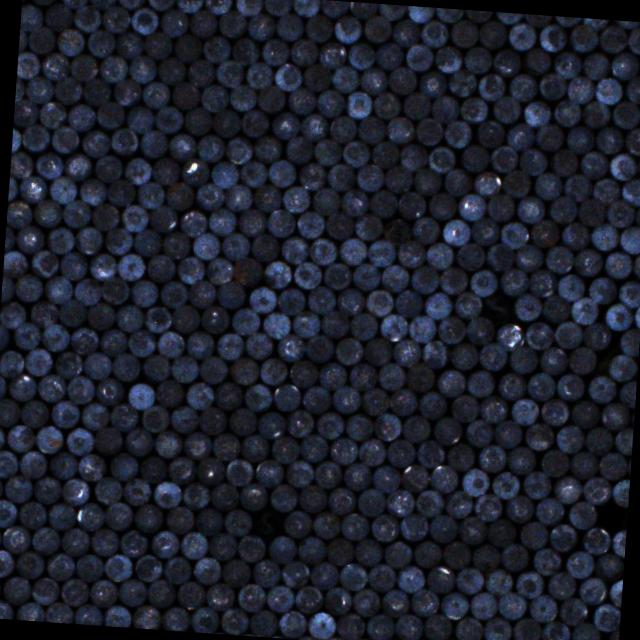tool: (232, 257, 262, 287), (476, 18, 506, 48), (68, 52, 98, 82), (408, 588, 438, 618), (170, 303, 200, 333), (526, 267, 556, 297), (60, 526, 90, 556), (134, 502, 164, 532), (514, 244, 544, 274), (320, 308, 350, 338), (570, 397, 600, 427), (370, 464, 400, 494), (340, 462, 370, 492), (506, 22, 536, 52), (396, 238, 426, 268), (404, 362, 434, 392), (446, 68, 476, 98), (298, 434, 328, 463), (562, 172, 592, 201), (145, 578, 174, 608), (288, 36, 317, 66), (61, 197, 90, 227), (240, 107, 270, 136), (322, 262, 352, 291), (432, 44, 461, 74), (323, 586, 352, 616), (221, 231, 250, 261), (512, 292, 542, 321), (208, 160, 238, 189), (488, 144, 518, 173), (237, 206, 266, 236), (360, 386, 389, 416), (295, 534, 324, 564), (428, 513, 457, 543), (500, 220, 529, 250), (122, 428, 152, 457), (520, 521, 550, 550), (477, 394, 507, 423), (596, 451, 626, 480), (169, 352, 198, 382), (182, 105, 212, 134), (302, 62, 331, 92), (441, 538, 470, 568), (530, 594, 560, 623), (448, 16, 477, 46), (132, 552, 161, 582), (386, 438, 415, 468), (486, 518, 515, 548), (311, 184, 340, 214), (458, 95, 488, 124), (228, 356, 258, 385), (248, 609, 278, 638), (383, 538, 412, 568), (75, 500, 104, 530), (43, 2, 72, 32), (508, 344, 538, 373), (485, 243, 514, 273), (336, 286, 365, 316), (101, 4, 130, 34), (536, 346, 566, 375), (242, 330, 272, 359), (425, 564, 454, 594), (110, 400, 139, 430), (600, 402, 630, 431), (254, 458, 284, 487), (470, 540, 499, 570), (80, 77, 110, 106), (85, 28, 114, 58), (609, 352, 638, 382), (333, 337, 362, 366), (528, 217, 557, 246), (198, 353, 227, 382), (142, 31, 171, 60), (100, 274, 129, 303), (185, 329, 214, 358), (396, 189, 425, 218), (94, 376, 123, 405), (132, 227, 161, 256), (116, 577, 145, 606), (323, 536, 352, 565), (499, 266, 528, 295), (464, 316, 493, 345), (331, 384, 360, 413), (457, 516, 486, 545), (473, 493, 502, 522), (347, 41, 376, 70), (182, 432, 211, 461), (51, 125, 80, 154), (486, 192, 515, 221), (363, 13, 392, 42), (423, 290, 452, 319), (253, 183, 282, 212), (283, 458, 312, 487), (29, 249, 58, 278), (175, 580, 204, 609), (264, 584, 293, 613), (126, 54, 155, 83), (270, 436, 299, 465), (237, 583, 266, 612), (294, 209, 323, 238), (76, 451, 105, 480), (385, 115, 414, 144), (15, 500, 44, 529), (113, 30, 142, 59), (88, 527, 117, 556), (501, 170, 530, 199), (479, 342, 508, 371), (566, 549, 595, 578), (13, 550, 42, 579), (308, 237, 337, 266), (569, 22, 598, 51), (362, 338, 391, 367), (80, 400, 109, 429), (5, 423, 34, 452), (44, 552, 73, 581), (441, 168, 470, 197), (109, 452, 138, 481), (117, 527, 146, 556), (275, 287, 304, 316), (123, 476, 152, 505), (224, 135, 253, 164), (302, 383, 331, 412), (96, 99, 125, 128), (443, 489, 472, 518), (582, 322, 611, 351), (402, 92, 431, 121), (184, 382, 213, 411), (453, 290, 482, 319), (220, 606, 248, 636), (104, 500, 132, 530), (478, 442, 506, 472), (268, 158, 296, 188), (20, 398, 48, 428), (197, 132, 225, 162), (139, 128, 167, 158), (356, 114, 384, 144), (366, 562, 394, 592), (57, 26, 85, 56), (376, 40, 404, 70), (370, 140, 400, 168), (293, 584, 321, 614), (493, 420, 521, 450), (42, 322, 70, 352), (326, 162, 354, 192), (225, 456, 253, 486), (567, 344, 595, 374), (276, 10, 304, 40), (428, 190, 456, 220), (263, 260, 291, 290), (218, 10, 248, 38), (220, 558, 248, 588), (296, 482, 324, 512), (500, 542, 530, 570), (438, 266, 468, 294), (33, 474, 61, 504), (352, 588, 380, 618), (454, 566, 484, 594), (210, 480, 238, 510), (584, 425, 612, 455), (222, 508, 252, 536), (340, 560, 368, 590), (566, 74, 594, 104), (437, 314, 465, 344), (300, 110, 328, 140), (194, 180, 222, 210), (492, 48, 520, 78), (86, 300, 114, 330), (584, 526, 612, 556), (290, 358, 318, 388), (434, 416, 462, 446), (553, 320, 581, 350), (352, 212, 382, 240), (588, 374, 616, 404), (606, 196, 634, 226), (466, 368, 494, 398), (611, 100, 639, 130), (338, 512, 366, 542), (166, 454, 194, 484), (356, 488, 386, 516), (317, 360, 345, 390), (298, 160, 326, 190), (526, 422, 554, 452), (272, 110, 300, 140), (482, 567, 512, 595), (354, 536, 382, 566), (113, 302, 141, 332), (419, 68, 447, 98), (112, 352, 140, 382), (92, 474, 120, 504), (599, 24, 627, 54), (606, 300, 634, 330), (524, 320, 552, 350), (329, 436, 357, 465), (34, 425, 62, 454), (448, 342, 477, 370), (407, 313, 435, 342), (392, 612, 421, 640), (351, 263, 379, 292), (153, 104, 182, 132), (40, 51, 68, 80), (308, 610, 337, 638), (394, 289, 422, 318), (346, 361, 374, 390), (278, 610, 306, 639), (22, 122, 50, 151), (67, 374, 95, 403), (201, 82, 229, 111), (448, 393, 476, 422), (347, 312, 375, 341), (284, 408, 312, 437), (252, 233, 280, 262), (26, 75, 54, 104), (444, 118, 472, 147), (442, 216, 470, 245), (202, 33, 230, 62), (148, 203, 176, 232), (216, 332, 244, 361), (24, 348, 52, 377), (74, 225, 102, 254), (354, 163, 382, 192), (378, 313, 406, 342), (38, 373, 66, 402), (18, 175, 46, 204), (582, 475, 610, 504), (400, 463, 428, 492), (344, 90, 372, 119), (188, 279, 216, 308), (293, 261, 321, 290), (468, 590, 496, 619), (394, 564, 422, 593), (2, 525, 30, 554), (282, 510, 310, 539), (554, 423, 582, 452), (379, 263, 407, 292), (112, 77, 140, 106), (413, 490, 442, 518), (422, 612, 451, 640), (570, 449, 598, 478), (212, 431, 240, 460), (128, 277, 156, 306), (147, 254, 175, 283), (166, 180, 194, 209), (316, 89, 344, 118), (200, 304, 228, 333), (211, 107, 239, 136), (17, 448, 45, 477), (274, 61, 302, 90), (524, 470, 552, 499), (104, 225, 132, 254), (71, 326, 99, 355), (330, 63, 358, 92), (125, 104, 154, 132), (252, 134, 280, 163), (457, 192, 485, 221), (306, 13, 334, 42), (610, 51, 638, 80), (33, 197, 61, 226), (168, 403, 196, 432), (461, 466, 489, 495), (244, 382, 272, 411), (332, 13, 360, 42), (155, 56, 184, 84), (430, 463, 458, 492), (180, 529, 208, 558), (369, 513, 397, 542), (436, 368, 464, 397), (420, 17, 448, 46), (590, 222, 618, 251), (280, 558, 309, 586), (546, 245, 574, 274), (370, 187, 398, 216), (31, 526, 59, 555), (217, 280, 246, 308), (456, 243, 484, 272), (409, 266, 438, 294), (228, 407, 256, 436), (140, 79, 168, 108), (84, 349, 112, 378), (404, 41, 432, 70), (383, 166, 412, 194), (74, 553, 102, 582), (196, 406, 224, 435), (508, 445, 536, 474), (310, 559, 338, 588), (212, 380, 240, 409), (272, 382, 300, 411), (358, 66, 386, 95), (564, 125, 592, 154), (357, 438, 385, 467), (578, 198, 606, 227), (126, 328, 154, 357), (340, 186, 368, 215), (465, 418, 493, 447), (542, 294, 571, 322), (58, 251, 86, 280), (547, 570, 576, 598), (144, 305, 172, 334), (192, 230, 220, 259), (306, 284, 335, 312), (238, 482, 266, 511), (47, 176, 76, 204), (268, 533, 296, 562), (60, 576, 88, 605), (152, 155, 180, 184), (192, 506, 220, 535), (180, 156, 208, 185), (260, 357, 288, 386), (366, 287, 394, 316), (256, 85, 284, 114), (194, 456, 222, 485), (579, 149, 607, 178), (156, 329, 184, 358), (54, 75, 82, 104), (399, 512, 427, 541), (596, 125, 624, 154), (48, 449, 76, 478), (60, 478, 88, 507), (516, 194, 544, 223), (469, 215, 497, 244), (426, 241, 454, 270), (155, 378, 183, 407), (3, 475, 31, 504), (106, 176, 134, 205), (343, 412, 372, 440), (33, 150, 62, 178), (540, 447, 568, 476), (66, 102, 95, 130), (562, 597, 590, 626), (336, 611, 364, 640), (604, 251, 632, 280), (231, 306, 260, 334), (446, 441, 474, 470), (461, 142, 489, 171), (326, 210, 354, 239), (6, 371, 34, 400), (505, 493, 533, 522), (54, 349, 82, 378), (140, 403, 168, 432), (258, 409, 286, 438), (168, 132, 196, 161), (596, 550, 624, 579), (507, 121, 535, 150), (417, 440, 445, 469), (388, 387, 416, 416), (507, 73, 535, 102), (92, 426, 120, 455), (534, 172, 562, 201), (416, 115, 444, 144), (492, 469, 520, 498), (74, 276, 102, 305), (11, 321, 39, 350), (496, 322, 524, 351), (562, 221, 590, 250), (316, 410, 344, 439), (268, 482, 296, 511), (498, 372, 526, 401), (164, 554, 192, 583), (276, 333, 304, 362), (538, 23, 566, 52), (250, 285, 278, 314), (569, 499, 597, 528), (230, 37, 258, 66), (392, 18, 420, 47), (580, 576, 608, 605), (326, 485, 354, 514), (525, 372, 553, 401), (280, 234, 308, 263), (420, 389, 448, 418), (66, 426, 95, 454), (304, 333, 332, 362), (554, 49, 582, 78), (81, 129, 109, 158), (523, 100, 552, 128), (515, 569, 543, 598), (28, 299, 57, 327), (381, 588, 408, 618), (372, 412, 399, 442), (51, 398, 78, 428), (190, 606, 220, 633), (285, 134, 312, 164), (391, 338, 418, 368), (58, 298, 85, 328), (237, 532, 265, 560), (338, 236, 366, 264), (594, 76, 622, 104), (267, 208, 295, 236), (224, 182, 252, 210), (312, 460, 340, 488), (118, 252, 146, 280), (230, 84, 258, 112), (130, 6, 158, 34), (462, 46, 490, 74), (88, 578, 116, 606), (588, 276, 616, 304), (537, 72, 565, 100), (38, 102, 66, 130), (205, 256, 233, 284), (104, 552, 132, 580), (88, 252, 116, 280), (389, 66, 417, 94), (368, 238, 396, 266), (208, 532, 236, 560), (510, 398, 538, 426), (400, 142, 428, 170), (476, 120, 504, 148), (136, 180, 164, 208), (314, 137, 342, 165), (570, 296, 598, 324), (413, 538, 441, 566), (372, 92, 400, 120), (498, 592, 526, 620), (260, 38, 288, 66), (401, 414, 429, 442), (342, 138, 370, 166), (240, 160, 268, 188), (492, 96, 520, 124), (608, 152, 636, 180), (93, 202, 121, 230), (192, 556, 220, 584), (536, 496, 564, 524), (251, 558, 279, 586), (414, 168, 442, 196), (550, 524, 578, 552), (98, 328, 126, 356), (431, 94, 459, 122), (109, 126, 137, 154), (14, 272, 42, 300), (42, 274, 70, 302), (365, 612, 393, 640), (122, 157, 150, 185), (159, 8, 187, 36), (520, 147, 548, 175), (286, 86, 314, 114), (534, 122, 562, 150), (160, 278, 188, 306), (172, 82, 200, 110), (474, 171, 502, 199), (95, 154, 123, 182), (28, 26, 56, 54), (573, 248, 601, 276), (242, 434, 270, 462), (427, 144, 455, 172), (290, 310, 318, 338), (78, 178, 106, 206), (150, 528, 178, 556), (206, 582, 234, 610), (550, 194, 578, 222), (580, 101, 608, 129), (16, 226, 44, 254), (46, 501, 74, 529), (182, 481, 210, 509), (550, 147, 578, 175), (592, 176, 620, 204), (468, 267, 496, 295), (534, 546, 562, 574), (64, 152, 92, 180), (262, 310, 290, 338), (126, 380, 154, 408), (162, 230, 190, 258), (581, 51, 609, 79), (385, 488, 413, 516), (540, 396, 568, 424), (178, 208, 206, 236), (558, 272, 586, 300), (318, 41, 346, 69), (166, 505, 193, 534), (207, 207, 234, 236), (412, 214, 439, 243), (215, 58, 242, 87), (312, 511, 339, 540), (186, 59, 213, 88), (175, 31, 202, 60), (245, 60, 272, 89), (422, 339, 449, 368), (441, 590, 468, 619), (2, 575, 29, 604), (280, 185, 308, 212), (188, 10, 215, 38), (249, 14, 276, 42), (176, 256, 203, 284), (31, 576, 58, 604), (554, 372, 582, 399), (100, 54, 127, 82), (374, 361, 402, 388), (329, 114, 356, 142), (46, 226, 74, 253), (142, 352, 170, 379), (73, 4, 100, 32), (153, 480, 180, 508), (140, 454, 167, 482), (523, 46, 550, 74), (132, 604, 161, 630), (483, 614, 512, 640), (154, 429, 180, 458), (12, 99, 38, 128), (556, 474, 582, 503), (478, 72, 504, 101), (594, 602, 620, 630), (120, 202, 146, 230), (554, 100, 580, 128), (511, 615, 540, 640), (161, 606, 190, 631), (455, 615, 483, 640), (6, 199, 30, 228), (0, 298, 24, 327), (44, 600, 72, 624), (2, 248, 26, 276), (72, 602, 100, 626), (16, 50, 39, 78), (617, 279, 640, 307), (9, 149, 32, 177), (541, 618, 570, 640), (0, 349, 22, 378), (104, 604, 130, 628), (20, 4, 42, 32), (619, 224, 640, 253), (620, 326, 640, 354), (614, 427, 634, 455), (16, 601, 44, 621), (572, 621, 600, 640), (0, 396, 18, 425), (622, 176, 640, 205), (613, 476, 630, 506), (624, 75, 640, 105), (0, 447, 16, 476), (349, 1, 376, 18), (405, 5, 432, 22), (375, 3, 403, 19), (620, 379, 636, 407), (0, 497, 15, 526), (236, 0, 263, 16), (291, 0, 318, 16), (320, 0, 347, 16), (0, 547, 14, 576), (626, 26, 640, 55), (626, 125, 640, 154), (433, 8, 462, 22), (612, 527, 626, 556), (203, 0, 231, 14), (262, 0, 290, 14), (0, 274, 14, 302), (609, 579, 622, 607), (525, 14, 552, 27), (464, 10, 492, 22), (496, 12, 524, 24), (175, 0, 202, 12), (582, 18, 608, 30), (552, 16, 580, 27), (146, 0, 174, 10), (4, 226, 14, 254), (11, 126, 21, 153), (611, 19, 640, 28), (0, 323, 9, 351), (87, 0, 115, 9), (15, 76, 24, 103), (0, 599, 12, 619), (8, 175, 17, 201), (18, 26, 27, 52), (60, 0, 89, 8), (632, 252, 640, 280), (116, 0, 143, 8), (632, 302, 640, 328), (293, 633, 318, 640), (608, 625, 619, 640), (0, 373, 5, 402), (635, 201, 640, 229), (321, 636, 349, 640), (0, 423, 3, 452), (637, 153, 640, 181), (351, 637, 378, 640), (381, 638, 406, 640)
tool_b: (481, 292, 514, 322), (252, 510, 282, 539)
void: (595, 502, 628, 532)
